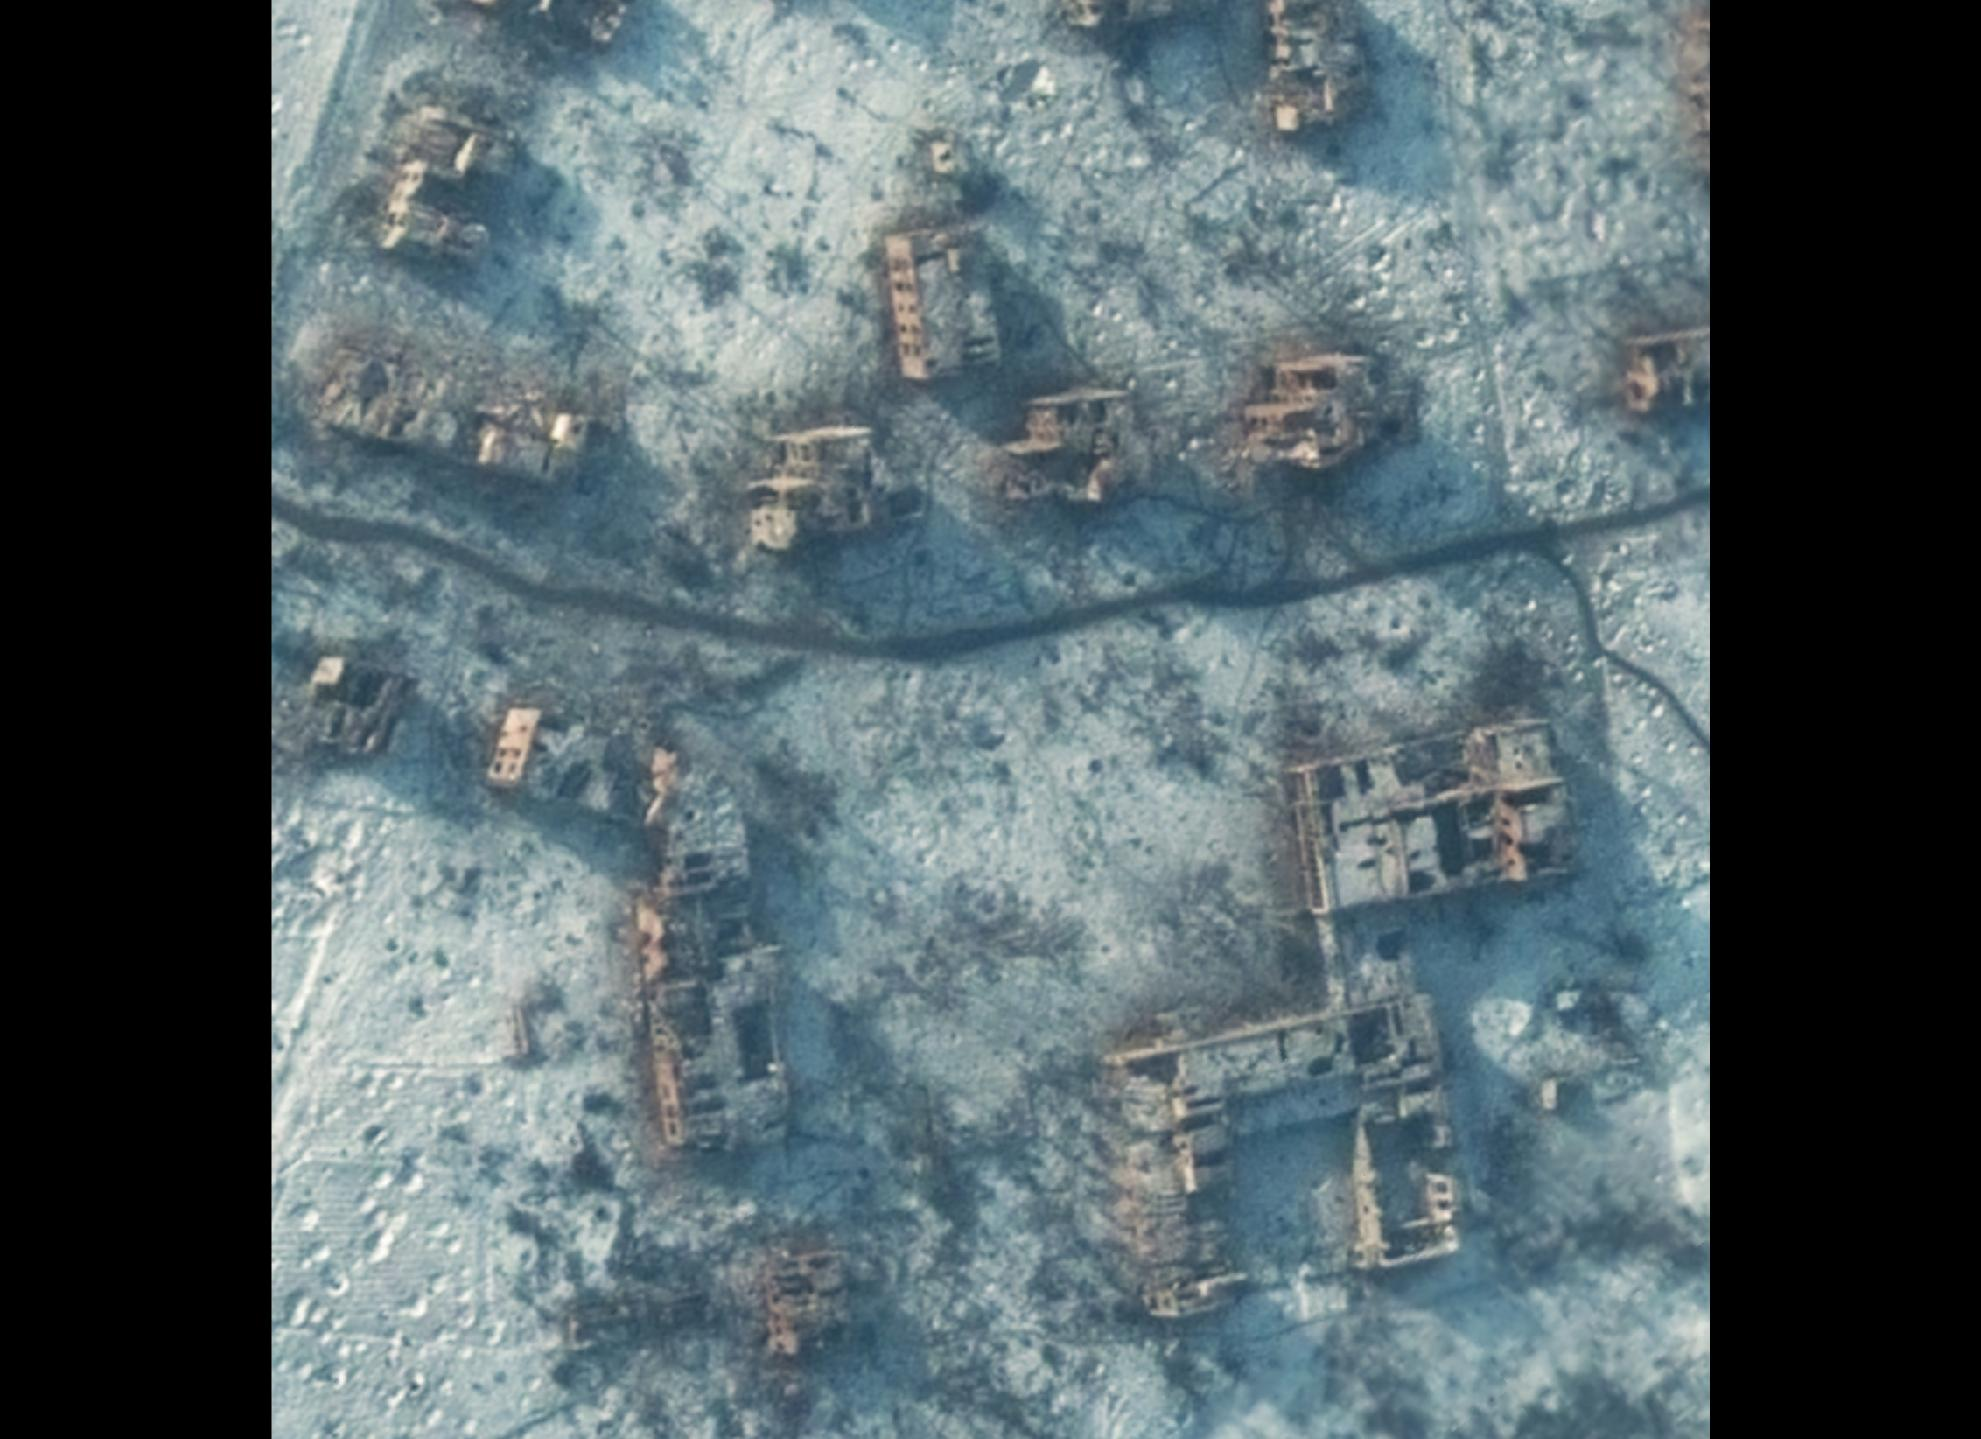demaged-building-high: (1070, 981, 1457, 1370), (621, 712, 800, 1210), (1255, 687, 1584, 945), (1223, 332, 1397, 474), (1003, 371, 1144, 524), (1254, 0, 1380, 165), (1047, 0, 1221, 35)
